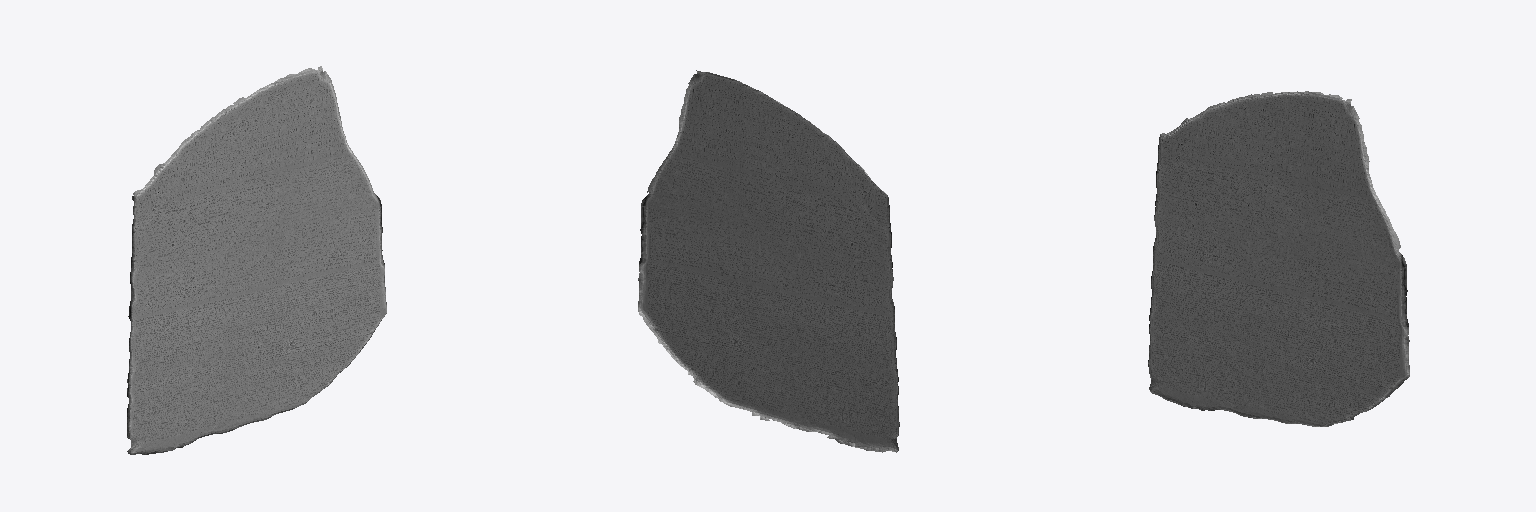
The picture shows the model from 3 angles: view 1: azimuth 30°, elevation 25°; view 2: azimuth 150°, elevation 25°; view 3: azimuth 330°, elevation 25°; orthographic projection.
Size of the model in its own units: 0.7605 by 0.9589 by 0.0323.
Materials: 1 (1 with a texture image).